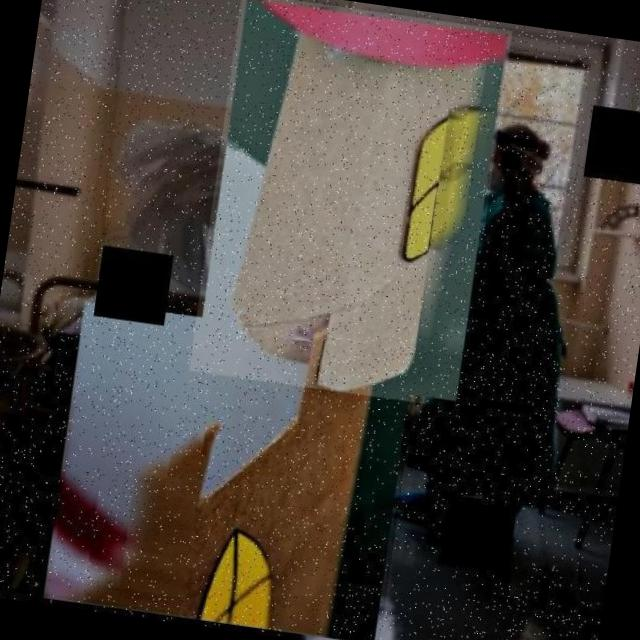box: (35, 295, 422, 640), (189, 0, 513, 409)
